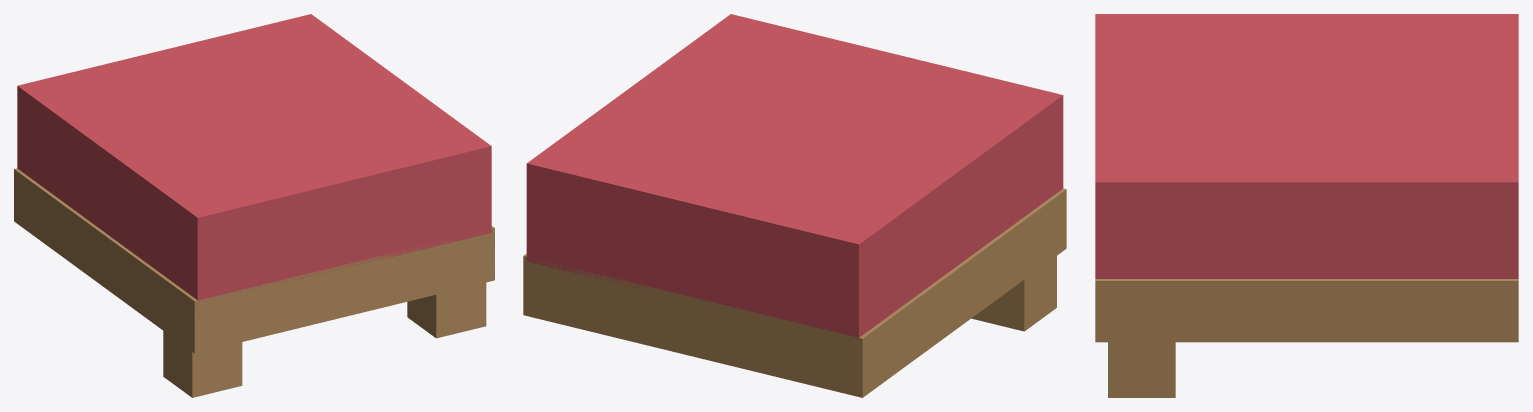
The model's file is bed_foot.glb.
3 views of the same model, side by side, from view 1: azimuth 30°, elevation 25°; view 2: azimuth 150°, elevation 25°; view 3: azimuth 270°, elevation 25° (orthographic). The views are drawn at different scales.
Parts seen in each view (by area): view 1: mattress, frame, leg, leg.001; view 2: mattress, frame, leg; view 3: mattress, frame, leg.001.
Boxes of the visible parts, bbox=[...] form: mattress: bbox=[17, 14, 491, 302]; frame: bbox=[14, 168, 494, 353]; leg: bbox=[163, 331, 242, 397]; leg.001: bbox=[407, 282, 486, 338]; mattress: bbox=[526, 14, 1063, 339]; frame: bbox=[523, 188, 1066, 397]; leg: bbox=[971, 256, 1056, 331]; mattress: bbox=[1095, 14, 1518, 278]; frame: bbox=[1095, 279, 1518, 342]; leg.001: bbox=[1108, 342, 1175, 397].
Bounding box in the file's own units: 0.96 × 0.5625 × 1.
